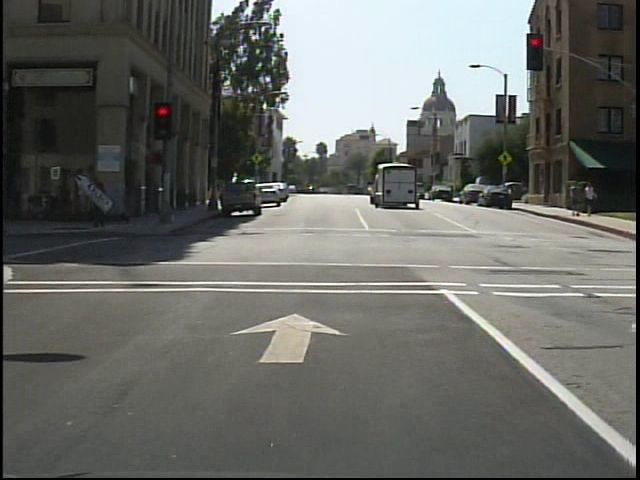person: (87, 170, 121, 233), (568, 181, 584, 219), (582, 180, 597, 217)
